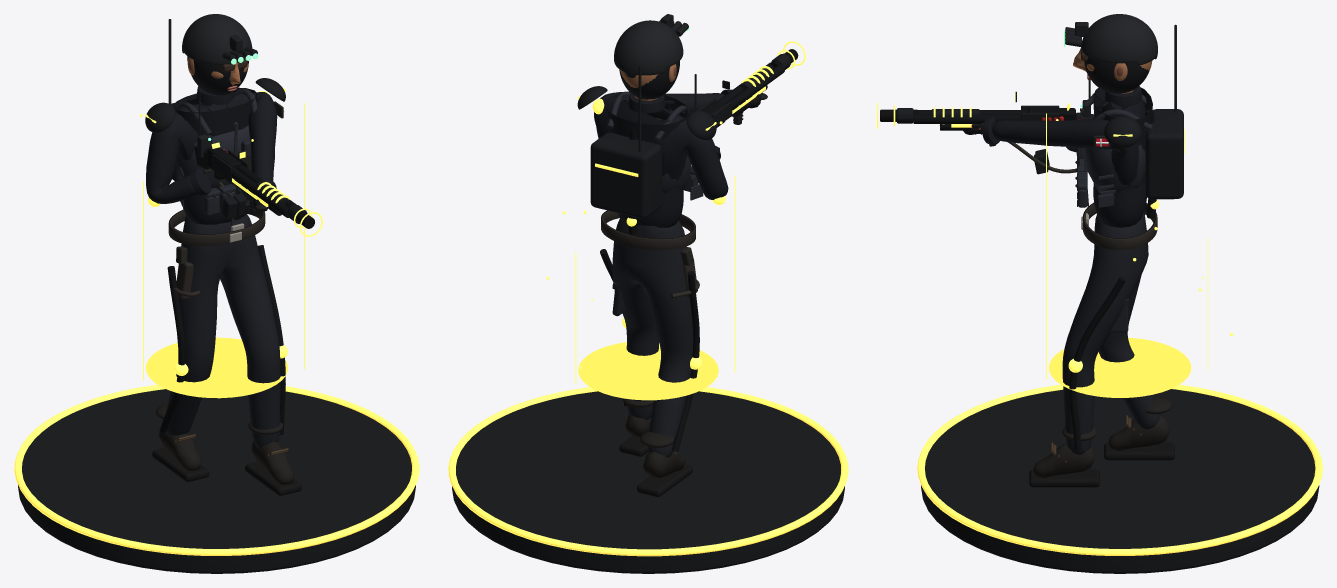
The model's file is hagl_nat.glb.
3 renders of one model, left to right at view 1: azimuth 30°, elevation 25°; view 2: azimuth 150°, elevation 25°; view 3: azimuth 270°, elevation 25°, orthographic.
Parts seen in each view (by area): view 1: fod_net, menneske_net, op1_net, op4_net, hoved_net, op4.001_net, vaaben_net, op3.001_net, op3_net, op4.002_net; view 2: fod_net, menneske_net, op4.001_net, op4_net, hoved_net, op1_net, op3.001_net, vaaben_net, op3_net, op4.002_net; view 3: fod_net, menneske_net, hoved_net, op4_net, op1_net, op4.001_net, ned4_net, vaaben_net, op3.001_net, op3_net.
Part boxes in pixels (x1,y1,x2,y2): fod_net: (14,384,419,573); menneske_net: (146,86,301,495); op1_net: (168,88,265,299); op4_net: (139,103,305,398); hoved_net: (182,14,258,95); op4.001_net: (148,90,287,435); vaaben_net: (194,145,296,217); op3.001_net: (145,19,285,132); op3_net: (211,142,307,223); op4.002_net: (222,178,322,236); fod_net: (448,387,848,573); menneske_net: (594,89,767,497); op4.001_net: (590,98,725,451); op4_net: (546,121,735,400); hoved_net: (614,14,689,99); op1_net: (601,74,700,298); op3.001_net: (577,66,716,152); vaaben_net: (702,62,784,127); op3_net: (697,53,791,126); op4.002_net: (718,41,805,150); fod_net: (917,384,1322,573); menneske_net: (963,86,1174,487); hoved_net: (1063,14,1157,93); op4_net: (1046,113,1233,397); op1_net: (1075,80,1157,249); op4.001_net: (1068,109,1184,450); ned4_net: (1098,109,1175,204); vaaben_net: (913,108,1094,134); op3.001_net: (1104,24,1176,147); op3_net: (897,103,1070,123).
Bounding box in the file's own units: 1.94 × 2.5 × 2.13.
